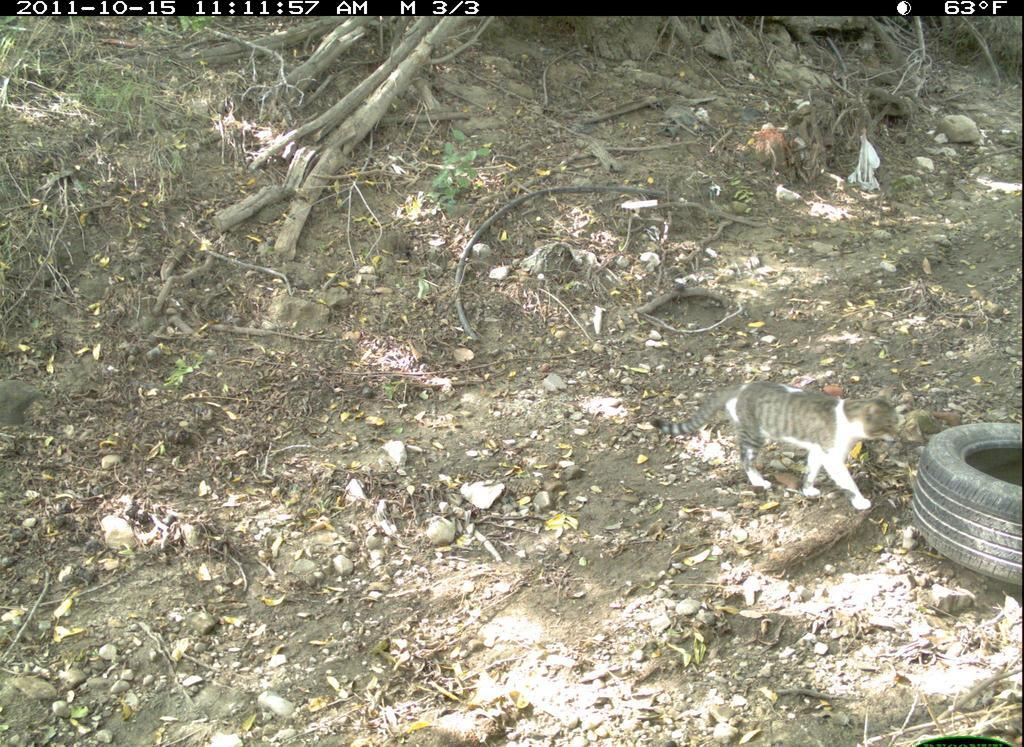cat: (643, 381, 911, 521)
